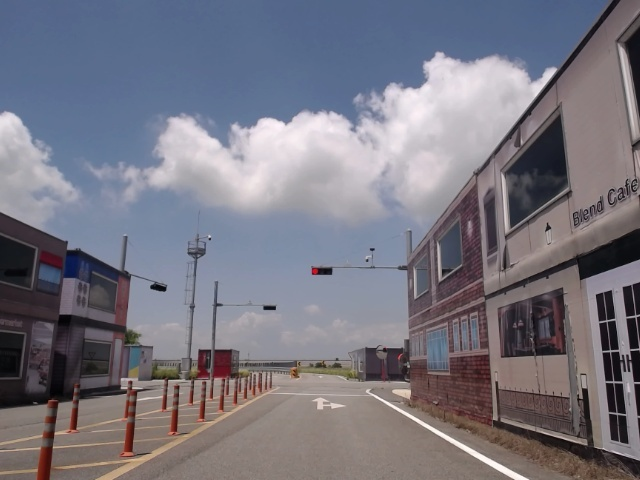red_3: (310, 267, 333, 275)
